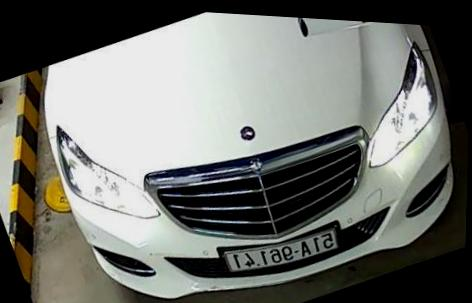License_Plate: (211, 213, 340, 293)
